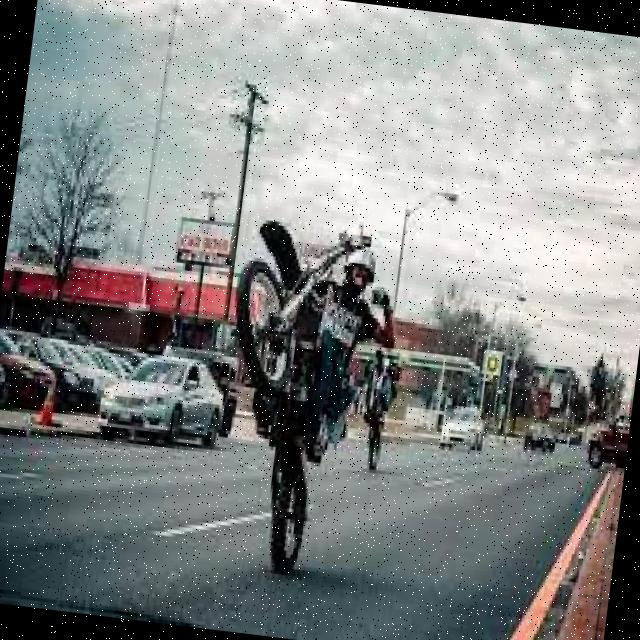Wheeling: (200, 214, 402, 589)
